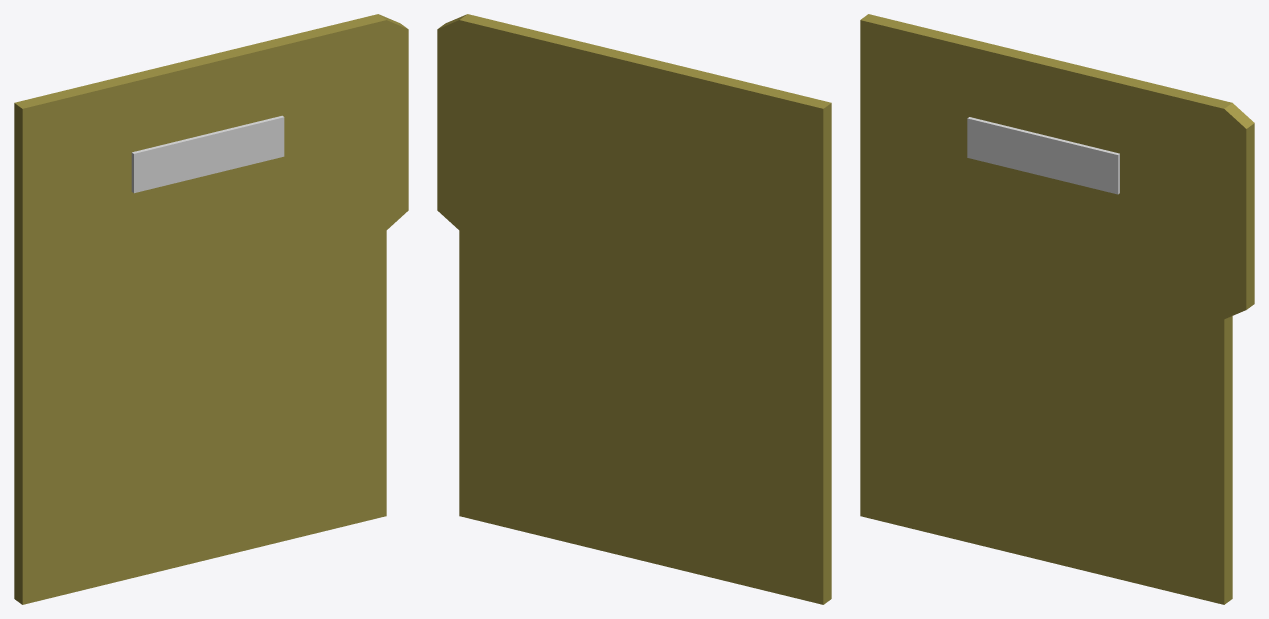
The model's file is exitItem.fbx.
3 renders of one model, left to right at view 1: azimuth 30°, elevation 25°; view 2: azimuth 150°, elevation 25°; view 3: azimuth 330°, elevation 25°, orthographic.
Parts seen in each view (by area): view 1: Plane, Cube; view 2: Plane; view 3: Plane, Cube.
Boxes of the visible parts, x1,y1,x2,y2 form: Plane: [14, 14, 408, 604]; Cube: [131, 115, 284, 193]; Plane: [437, 14, 831, 604]; Plane: [860, 14, 1254, 604]; Cube: [967, 117, 1119, 194].
Bounding box in the file's own units: 206 × 253 × 9.58.
